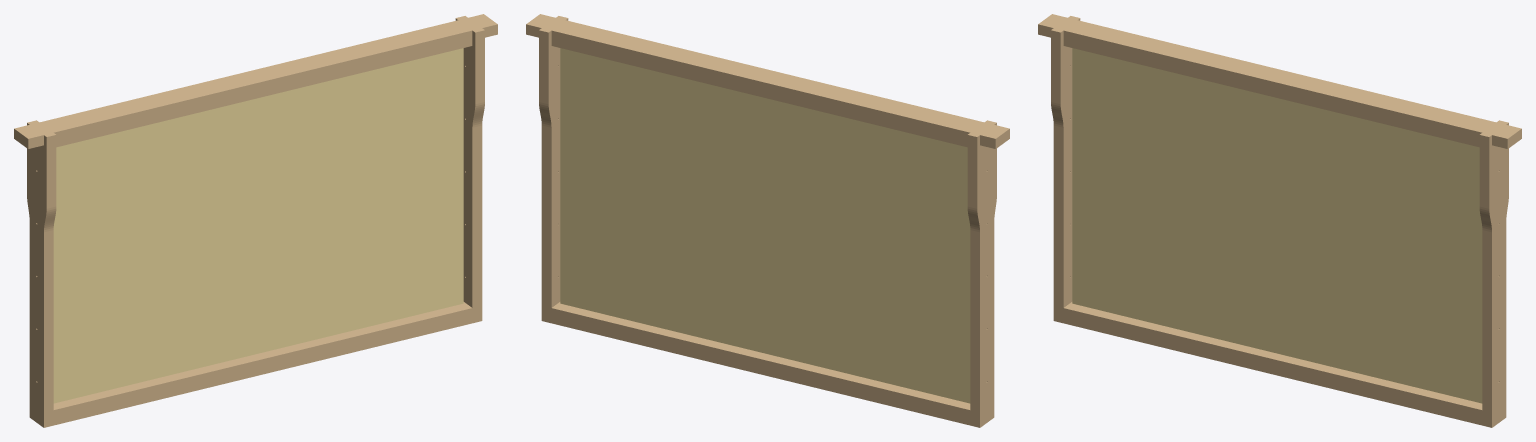
File: dadant.glb
3 views of the same model, side by side, from view 1: azimuth 30°, elevation 25°; view 2: azimuth 150°, elevation 25°; view 3: azimuth 330°, elevation 25° (orthographic).
Visible parts, largest first — view 1: Mellanvagg, Overlist, Underlist, Sidolist_V, Sidolist_H; view 2: Mellanvagg, Overlist, Underlist, Sidolist_V, Sidolist_H; view 3: Mellanvagg, Overlist, Underlist, Sidolist_H, Sidolist_V.
Boxes of the visible parts, bbox=[...] form: Mellanvagg: bbox=[53, 48, 463, 403]; Overlist: bbox=[14, 14, 497, 150]; Underlist: bbox=[29, 302, 482, 427]; Sidolist_V: bbox=[27, 120, 56, 424]; Sidolist_H: bbox=[455, 16, 484, 307]; Mellanvagg: bbox=[560, 48, 970, 403]; Overlist: bbox=[526, 14, 1009, 150]; Underlist: bbox=[541, 302, 994, 427]; Sidolist_V: bbox=[967, 120, 996, 424]; Sidolist_H: bbox=[539, 16, 568, 307]; Mellanvagg: bbox=[1072, 48, 1482, 403]; Overlist: bbox=[1038, 14, 1521, 150]; Underlist: bbox=[1053, 302, 1506, 427]; Sidolist_H: bbox=[1479, 120, 1508, 424]; Sidolist_V: bbox=[1051, 16, 1080, 307].
Size of the model in its own units: 480 by 286 by 35.
